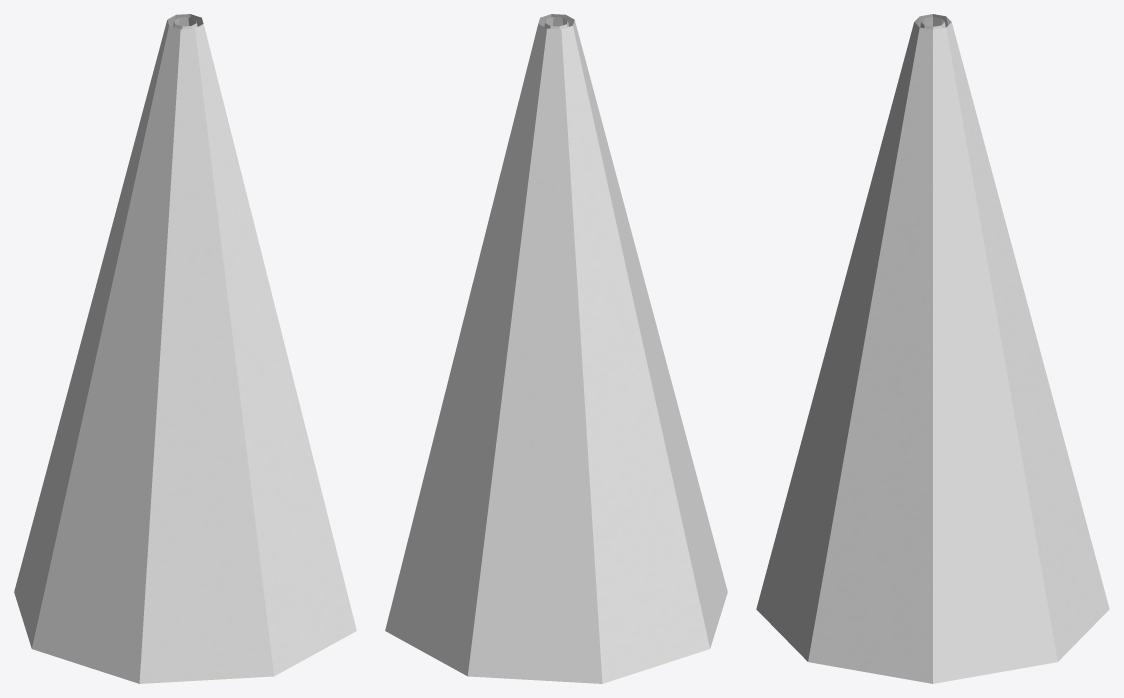
Rendered from Spotlight_mesh.fbx.
3 renders of one model, left to right at view 1: azimuth 30°, elevation 25°; view 2: azimuth 150°, elevation 25°; view 3: azimuth 270°, elevation 25°, orthographic.
Parts seen in each view (by area): view 1: Spotlight_mesh; view 2: Spotlight_mesh; view 3: Spotlight_mesh.
Boxes of the visible parts, x1,y1,x2,y2 form: Spotlight_mesh: (14,14,356,683); Spotlight_mesh: (385,14,727,683); Spotlight_mesh: (756,14,1109,683).
Size of the model in its own units: 273 by 501 by 273.
Materials: 1 (1 with a texture image).
